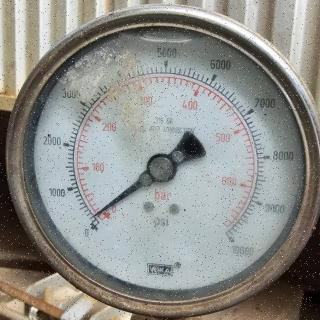gauge: (1, 1, 319, 319), (77, 207, 111, 241), (216, 224, 248, 256), (147, 152, 177, 182), (86, 210, 101, 224)
